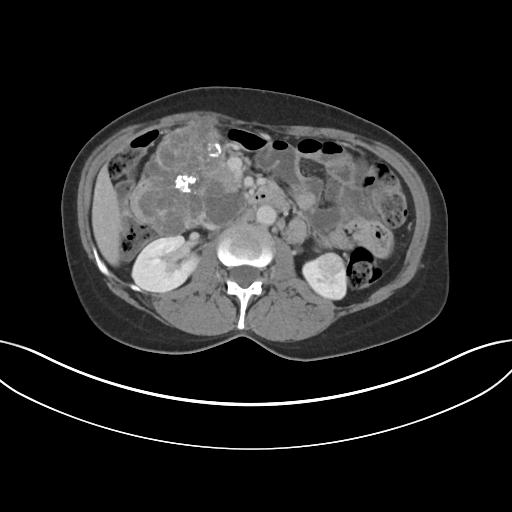Lesion: (314, 249, 347, 280)
